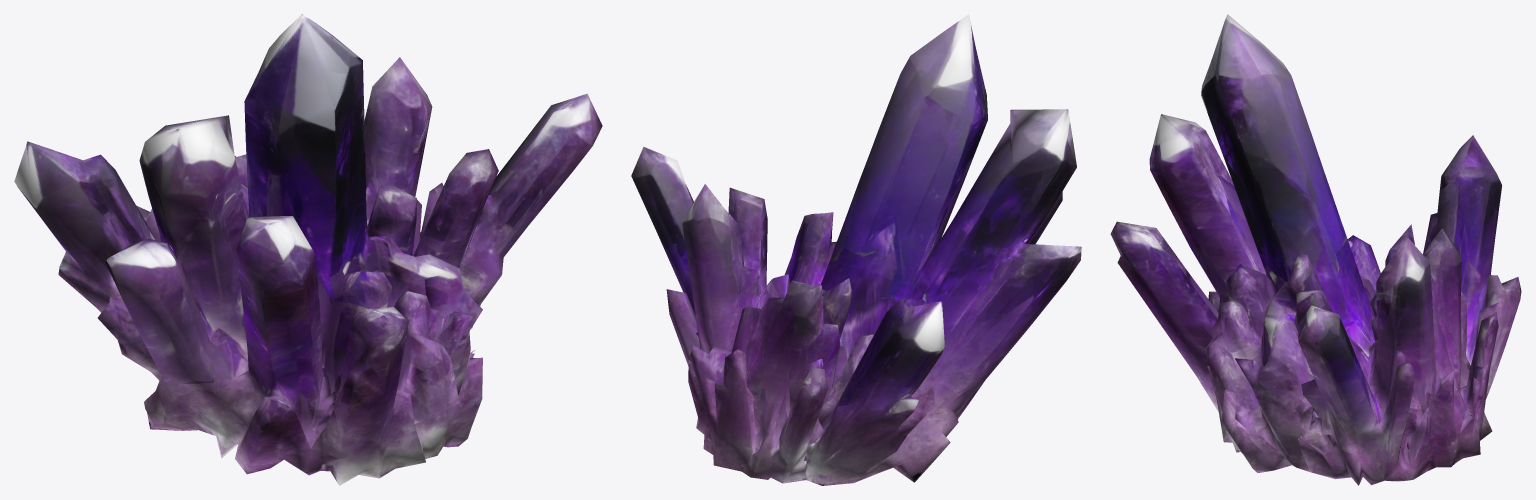
The model's file is Crystal.glb.
The picture shows the model from 3 angles, left to right: view 1: azimuth 30°, elevation 25°; view 2: azimuth 150°, elevation 25°; view 3: azimuth 270°, elevation 25°; orthographic projection. The views are drawn at different scales.
Visible parts, largest first — view 1: Mesh_0; view 2: Mesh_0; view 3: Mesh_0.
Part boxes in pixels (box(x1,y1,x2,y2)): Mesh_0: box(14, 14, 602, 485); Mesh_0: box(631, 14, 1081, 485); Mesh_0: box(1110, 14, 1521, 485).
Size of the model in its own units: 0.223 by 0.2 by 0.1901.
Materials: 1 (1 with a texture image).
